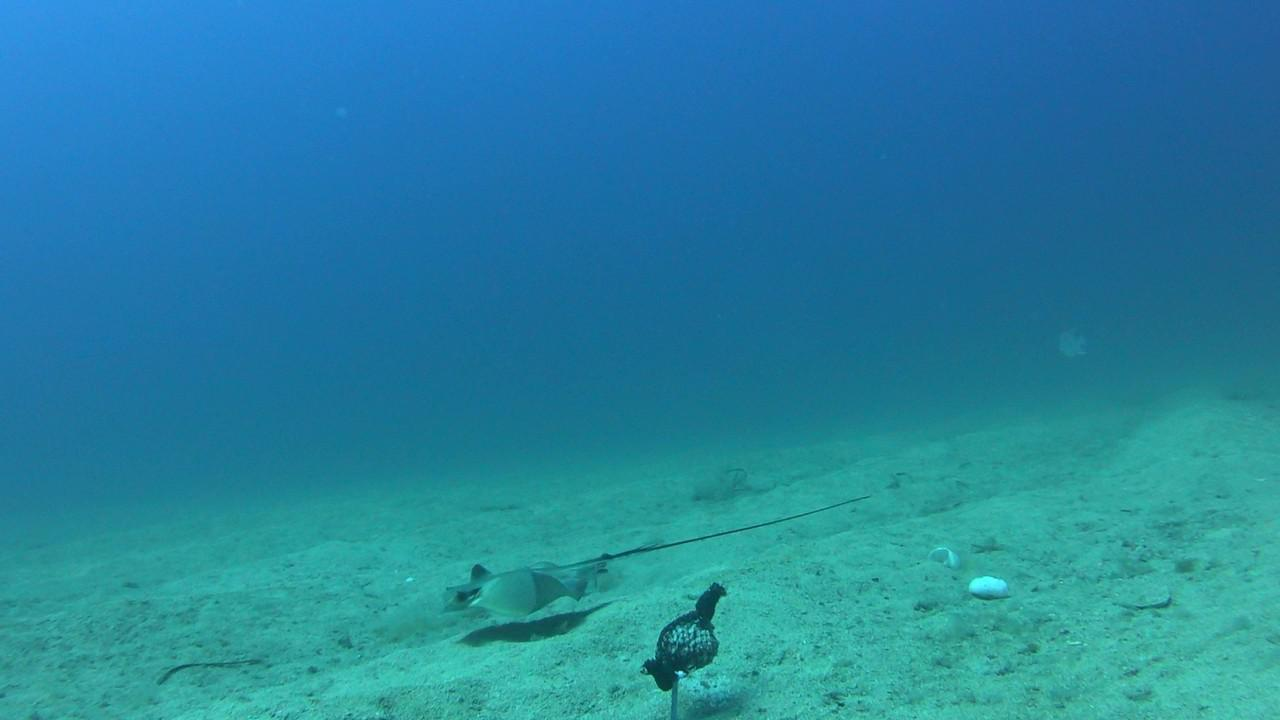myliobatis: (432, 488, 894, 630)
